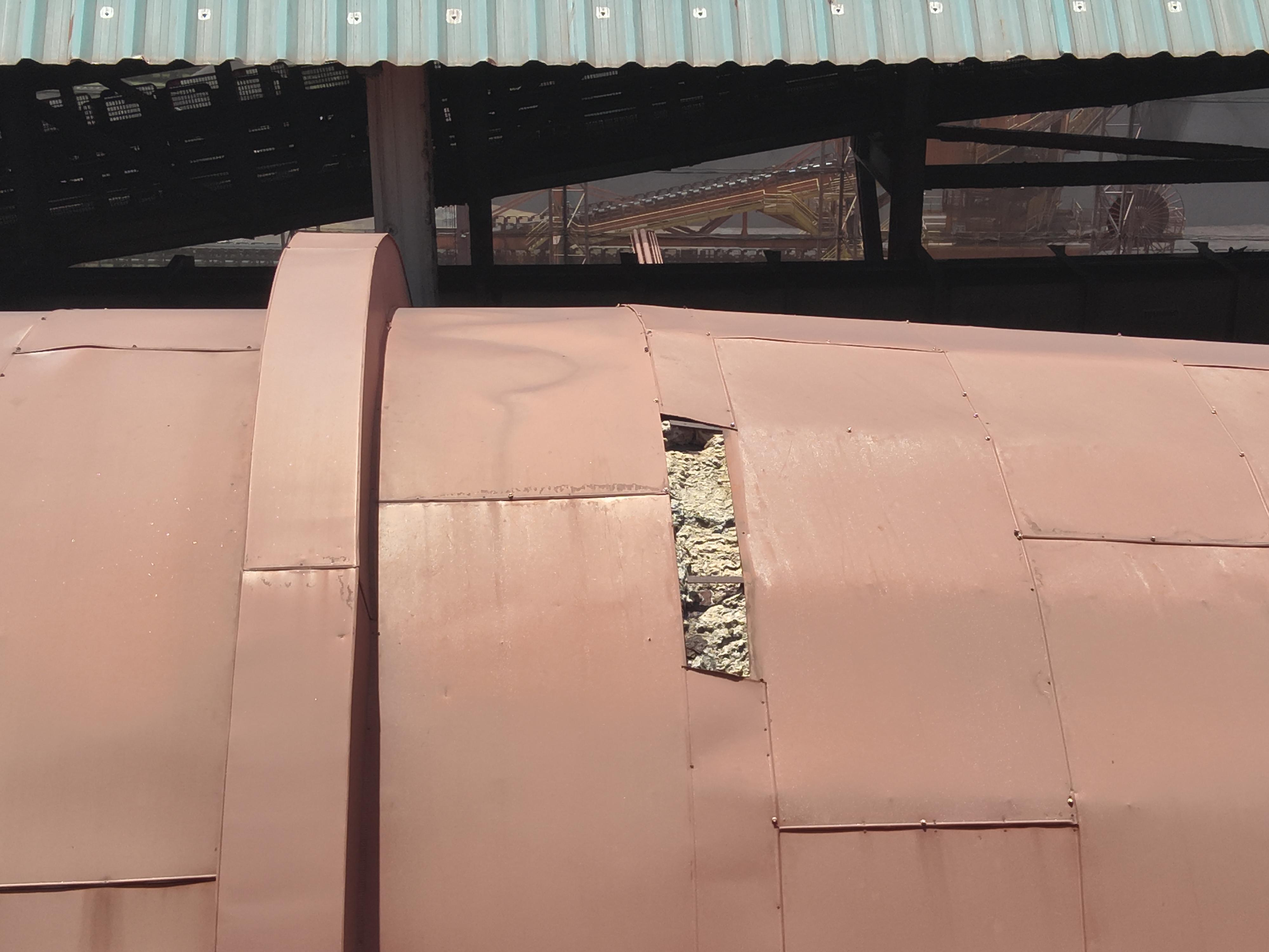Failures: (644, 393, 793, 765)
